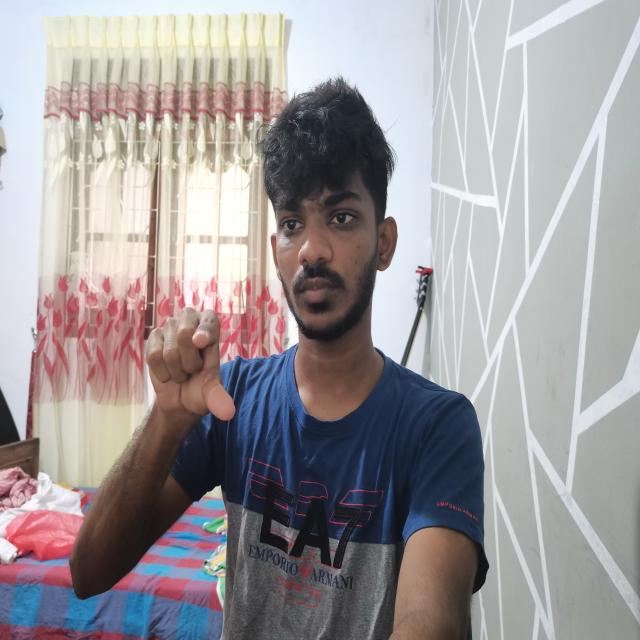No: (136, 302, 248, 456)
